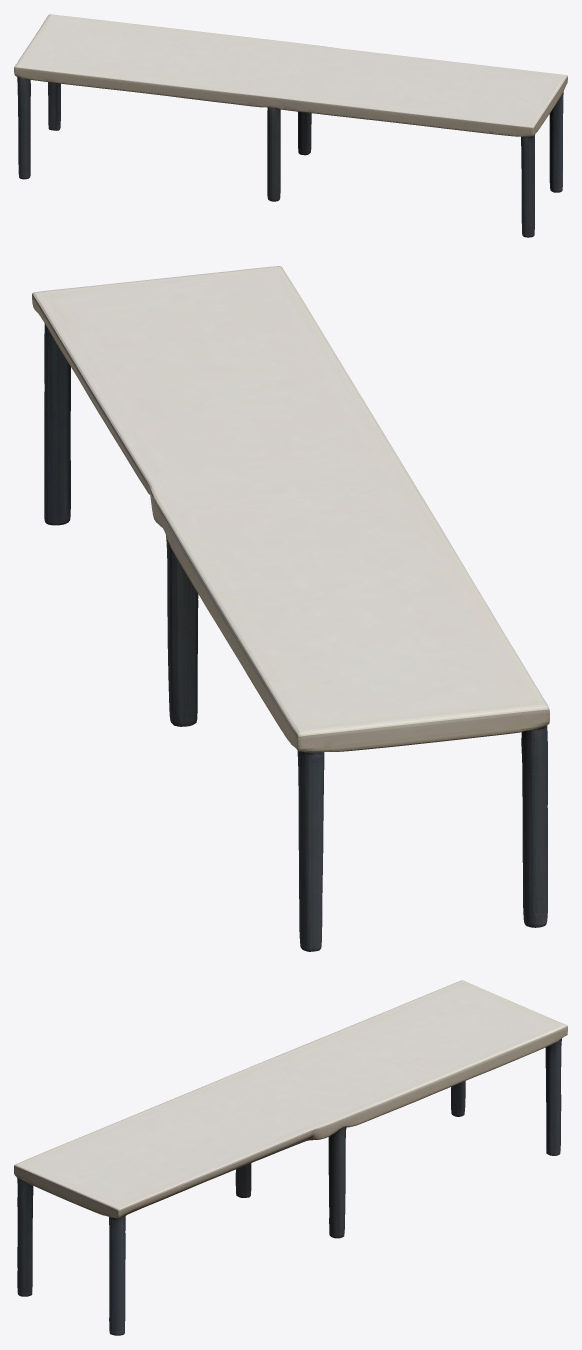
The model's file is long_light-colored_wooden_table_in_foreground_000.glb.
The picture shows the model from 3 angles, top to bottom: view 1: azimuth 30°, elevation 25°; view 2: azimuth 150°, elevation 25°; view 3: azimuth 270°, elevation 25°; orthographic projection. The views are drawn at different scales.
Parts seen in each view (by area): view 1: phase2_final_long_light-colored_wooden_table_in_foreground_0; view 2: phase2_final_long_light-colored_wooden_table_in_foreground_0; view 3: phase2_final_long_light-colored_wooden_table_in_foreground_0.
Part boxes in pixels (x1,y1,x2,y2): phase2_final_long_light-colored_wooden_table_in_foreground_0: (14,14,567,237); phase2_final_long_light-colored_wooden_table_in_foreground_0: (32,266,549,951); phase2_final_long_light-colored_wooden_table_in_foreground_0: (14,980,567,1335).
Bounding box in the file's own units: 1.13 × 0.2974 × 1.14.
Materials: 1 (1 with a texture image).
